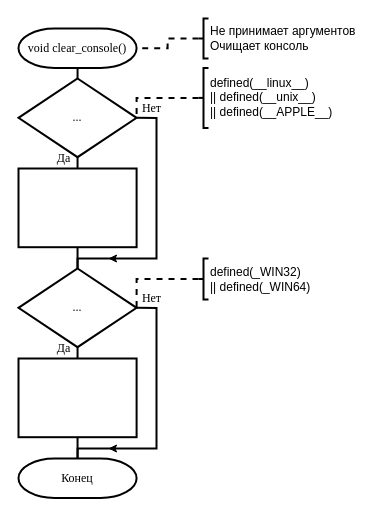
This 372x517 diagram has some shape labels left out. The shapes that lost their labels are listed below. From the top down, each one's centre as x and y in pixels, then its label:
point (77, 207): system("clean")
point (77, 397): system("cls")
